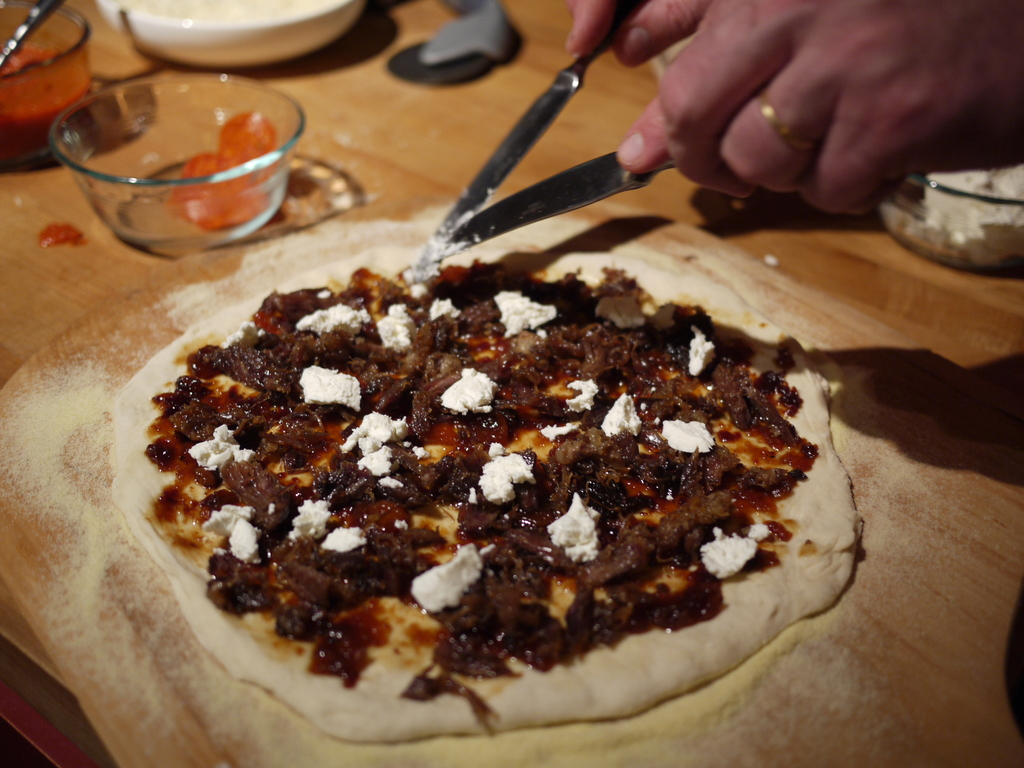Pizza: (112, 240, 865, 733)
